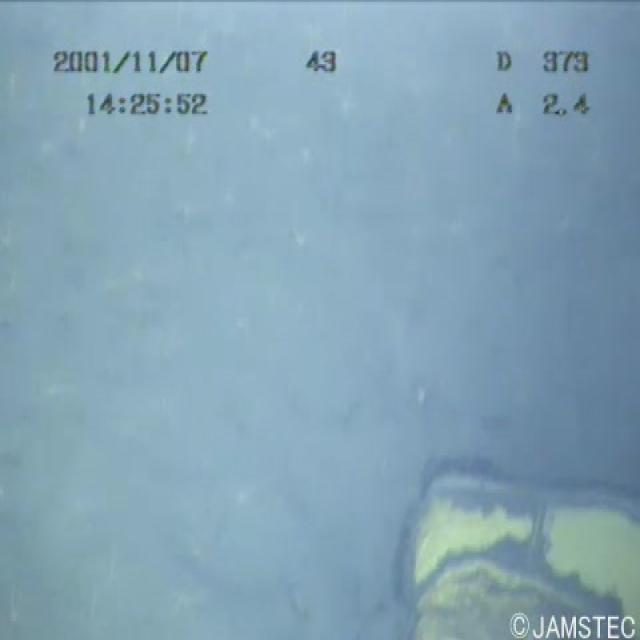plastic: (378, 439, 638, 638)
